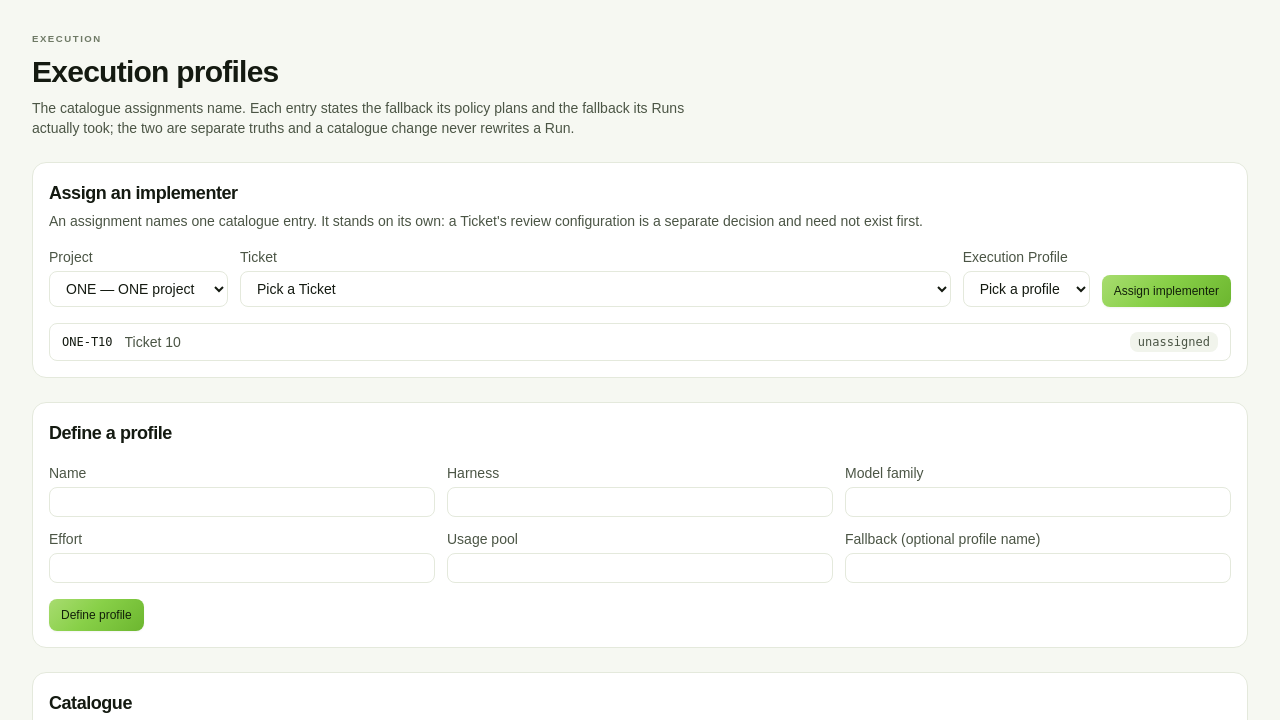
Test: Profiles keeps assignment inside the selected Project › never applies an assignment answered after the Project changed
The image size is (1280, 720).
Select "ONE-T10 — Ticket 10" in the dropdown with test id "assign-ticket": (595, 289) [240,271,951,307]
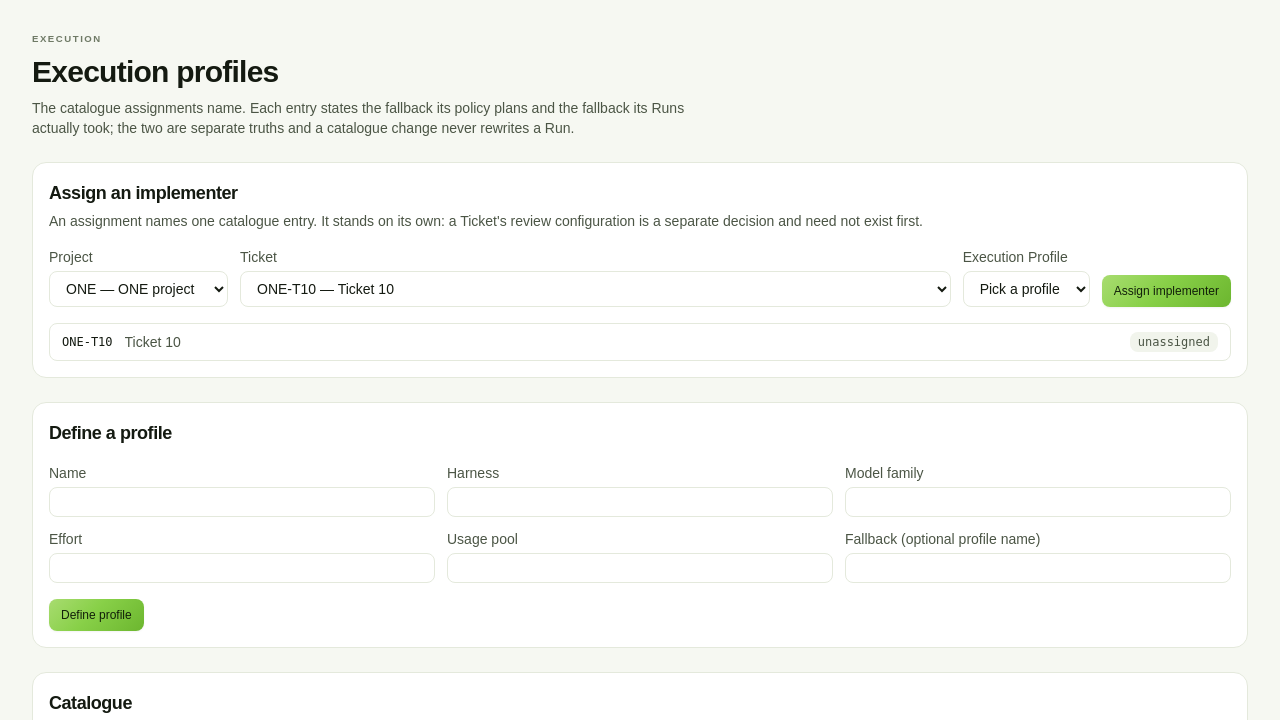
Select "deep" in the dropdown with test id "assign-profile": (1026, 289) [963,271,1090,307]
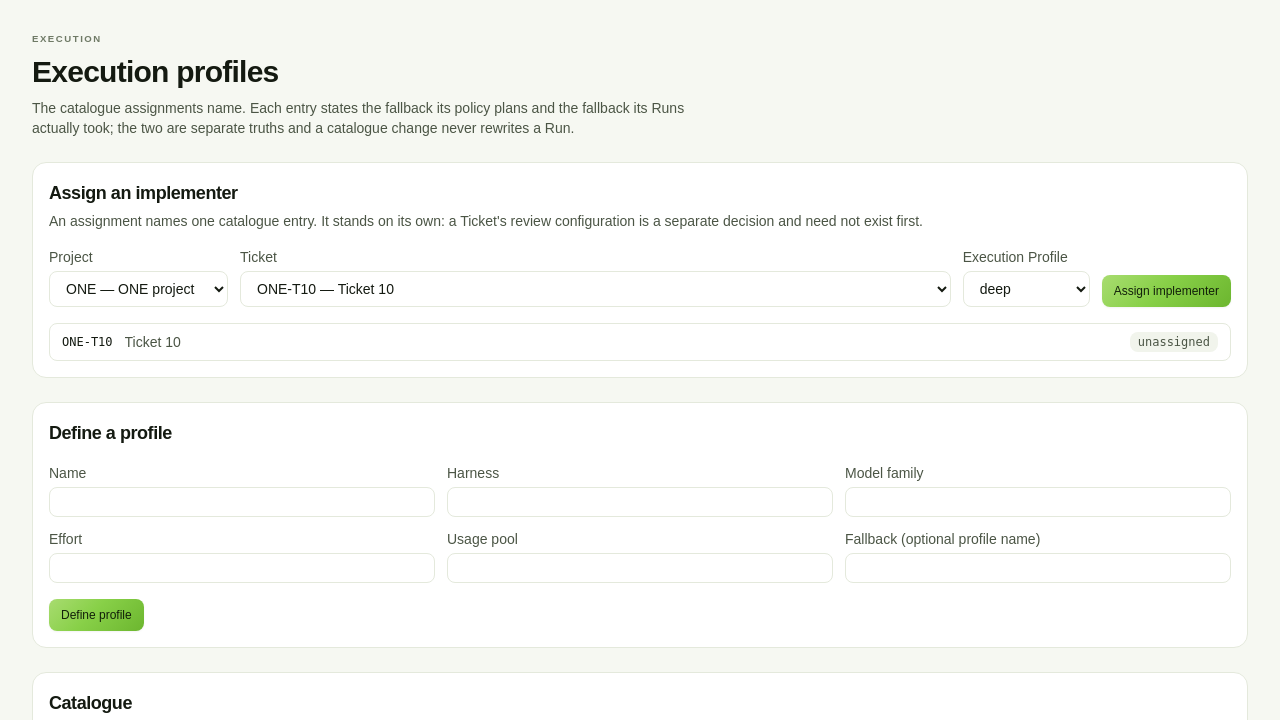
Submit the form from the button with test id "assign-submit", box [1102,275,1231,307]
Select "TWO — TWO project" in the dropdown with test id "assign-project": (138, 289) [49,271,228,307]
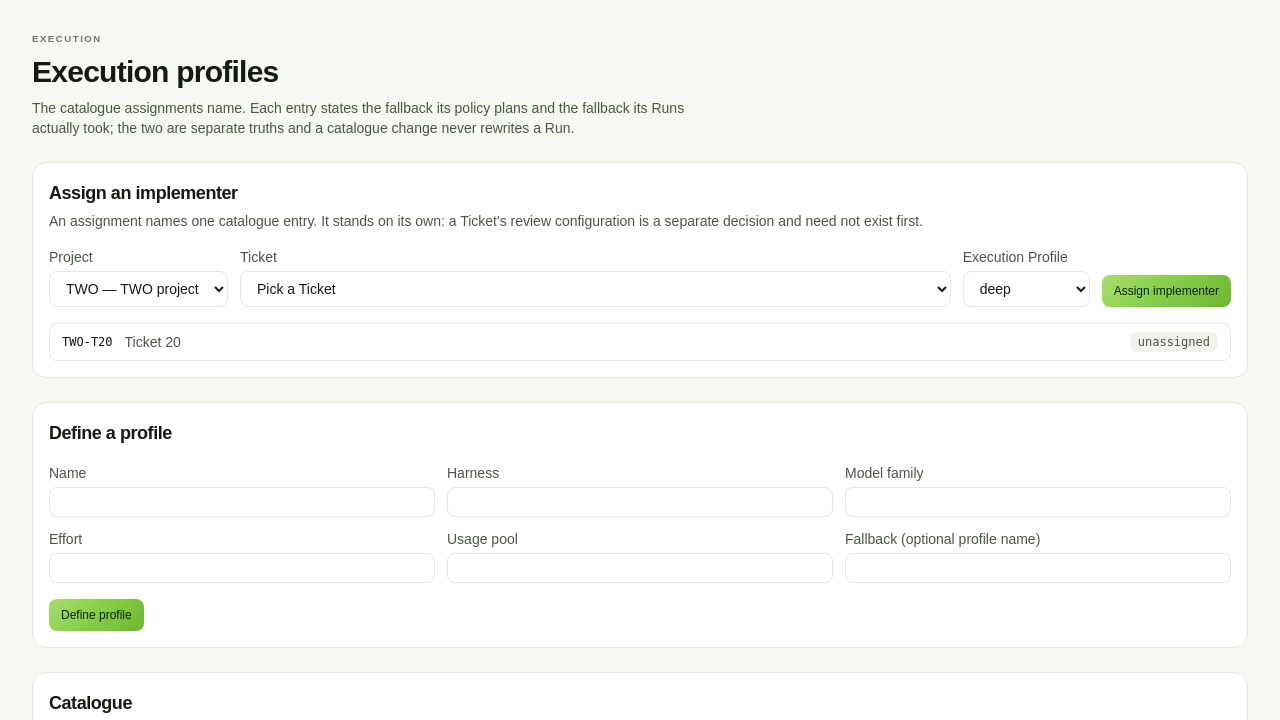
Expected: the text "deep" is not shown
Expected: the list item "TWO-T20 Ticket 20 unassigned" is shown, [62,332,1218,352]
